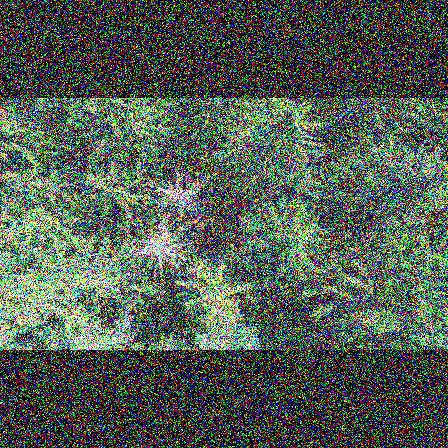Dead: (131, 217, 202, 278), (154, 170, 216, 213)
